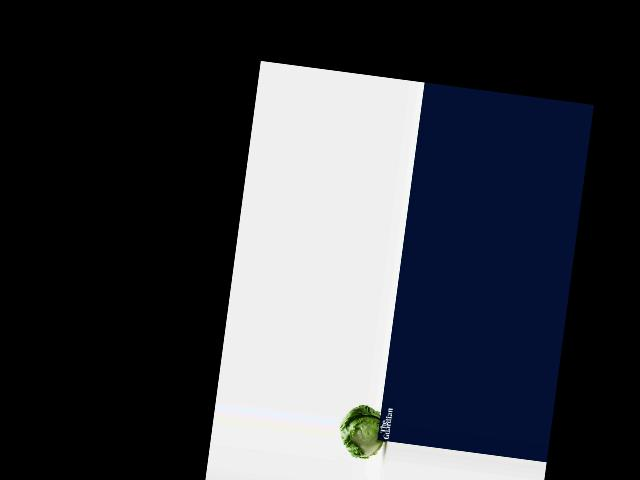lettuce: (334, 403, 387, 460)
